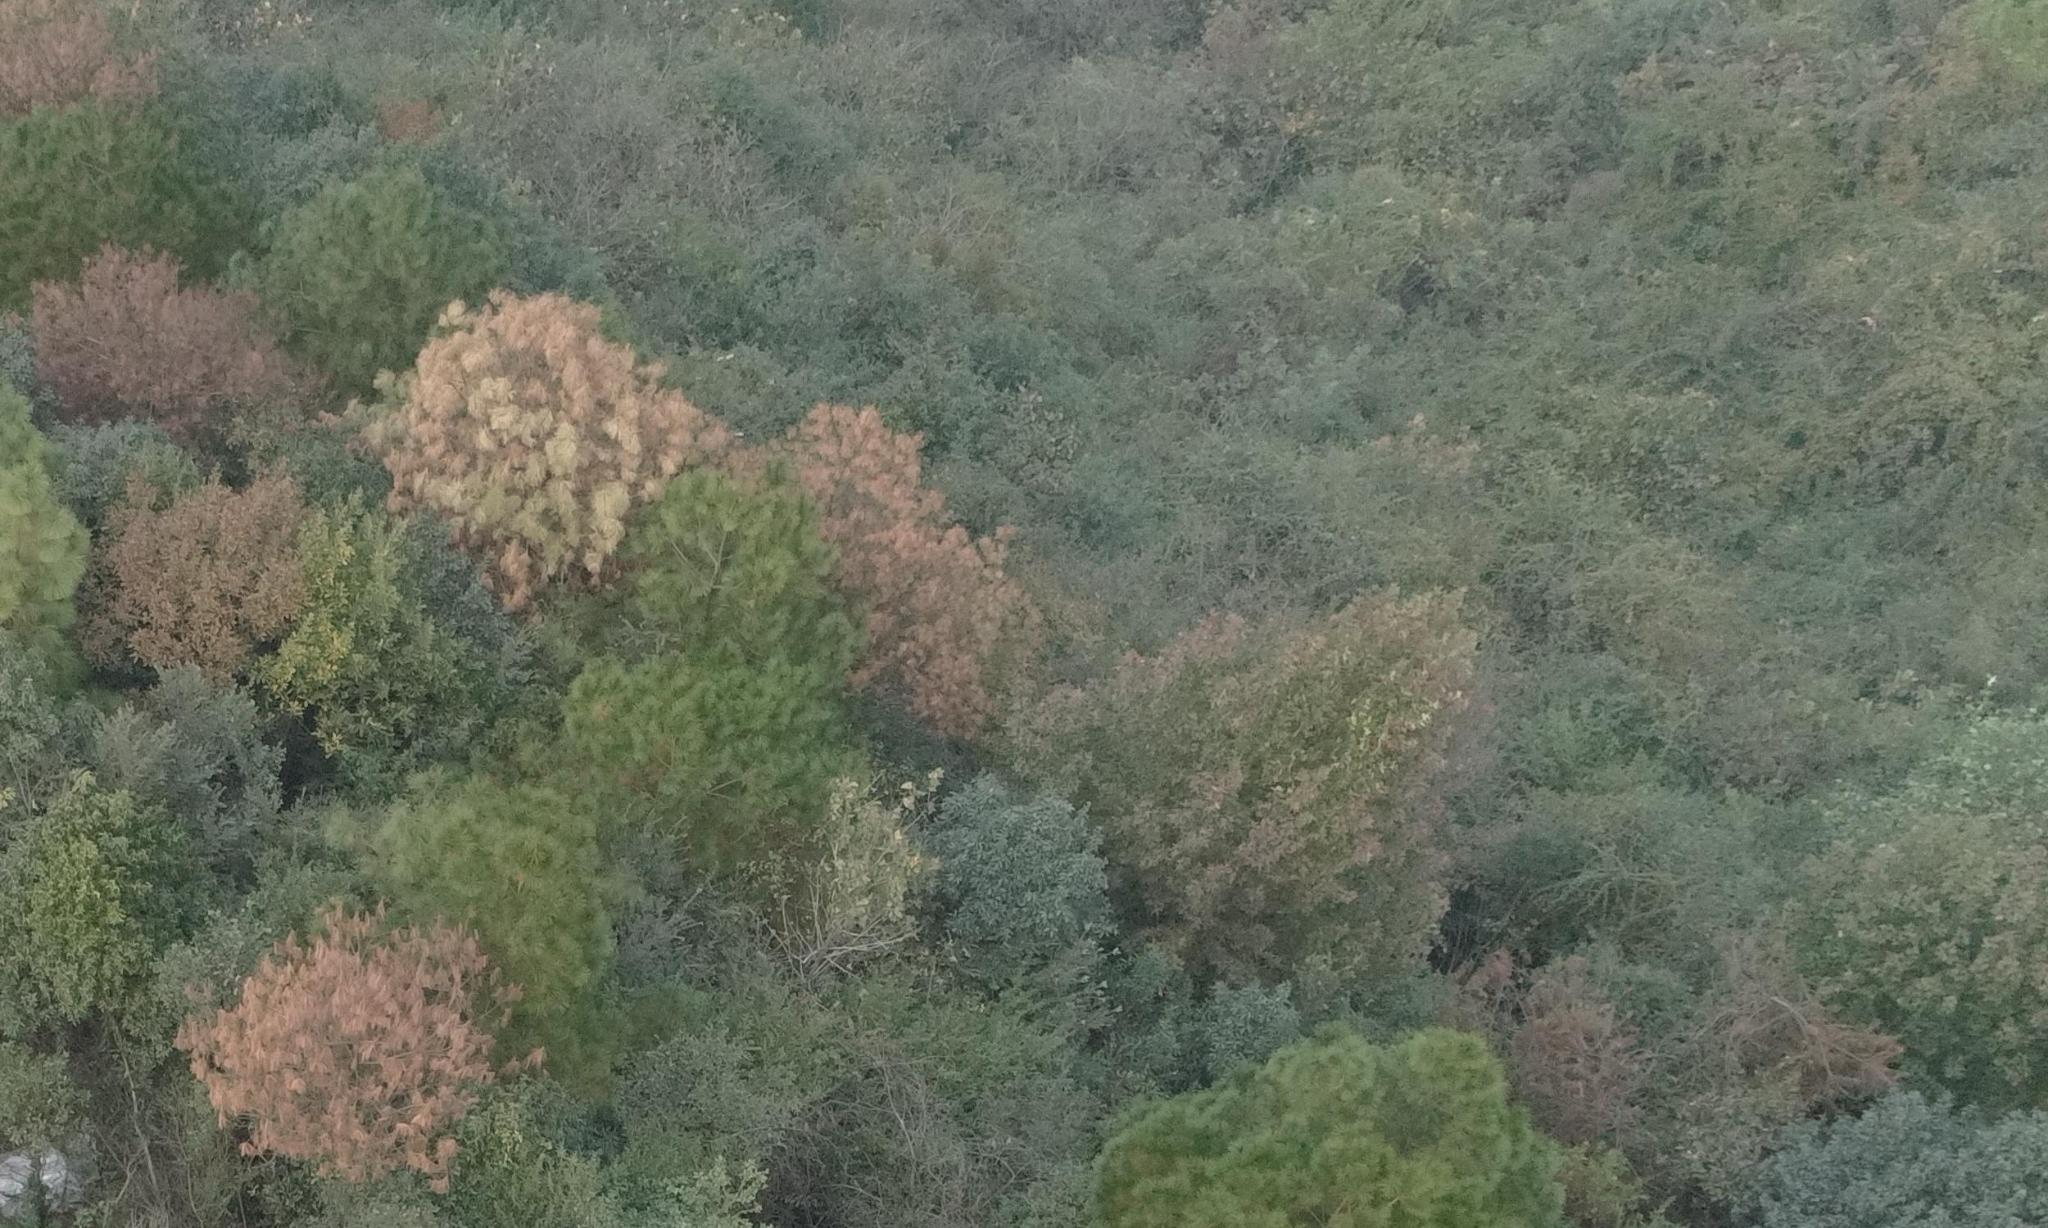heavy: (363, 276, 687, 602), (186, 901, 516, 1190), (785, 398, 1025, 751)
